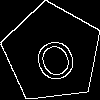O: (27, 28, 81, 86)
